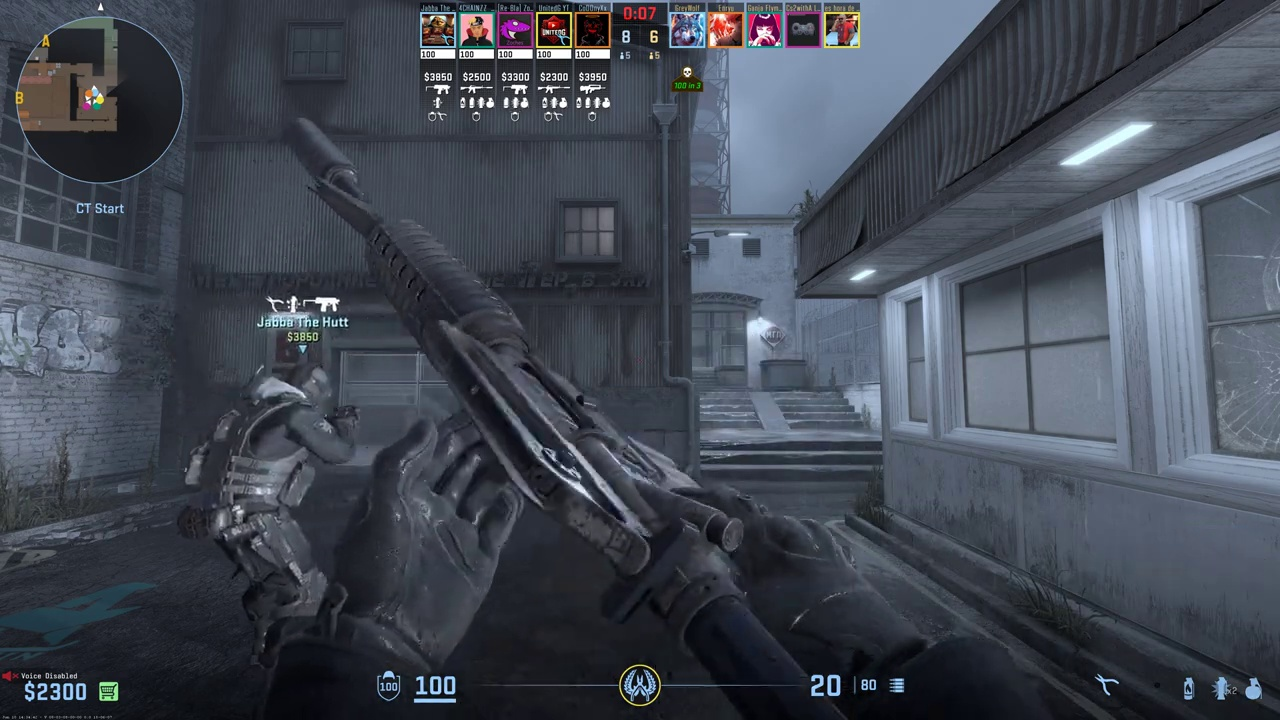CT: (204, 362, 350, 673)
